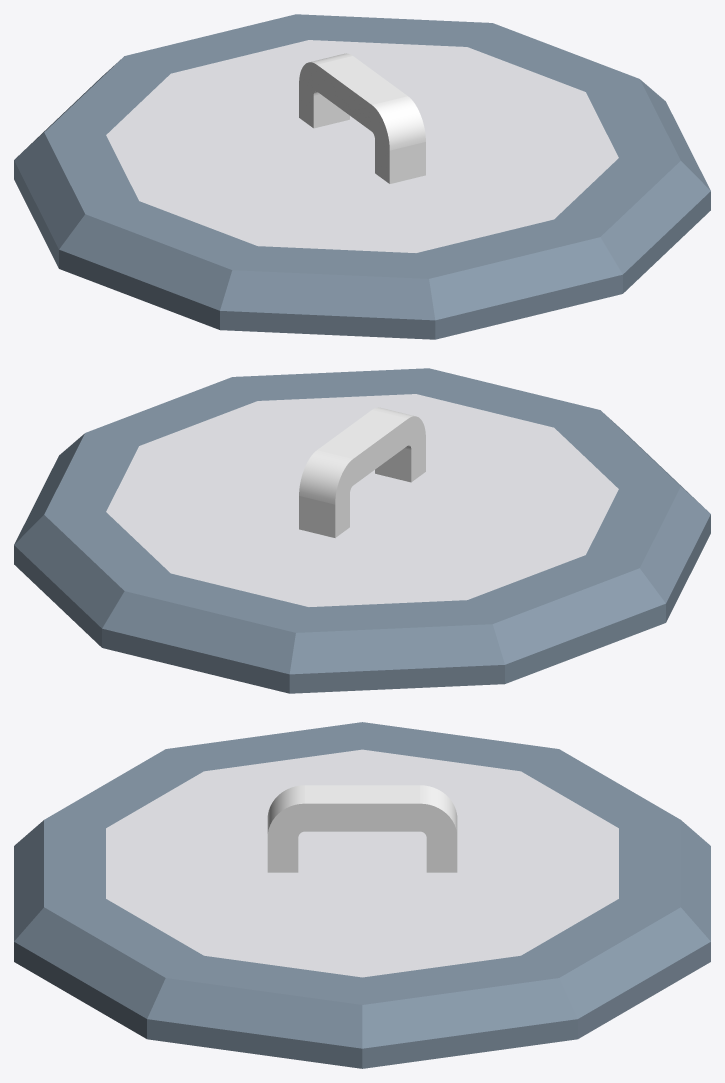
The model's file is potStewLid.obj.
3 renders of one model, top to bottom at view 1: azimuth 30°, elevation 25°; view 2: azimuth 150°, elevation 25°; view 3: azimuth 270°, elevation 25°, orthographic. The views are drawn at different scales.
Parts seen in each view (by area): view 1: potStewLid; view 2: potStewLid; view 3: potStewLid.
Part boxes in pixels (left/top/right/bottom): potStewLid: left=14, top=14, right=710, bottom=339; potStewLid: left=14, top=368, right=710, bottom=693; potStewLid: left=14, top=722, right=710, bottom=1068.
Size of the model in its own units: 0.6574 by 0.1184 by 0.6253.
